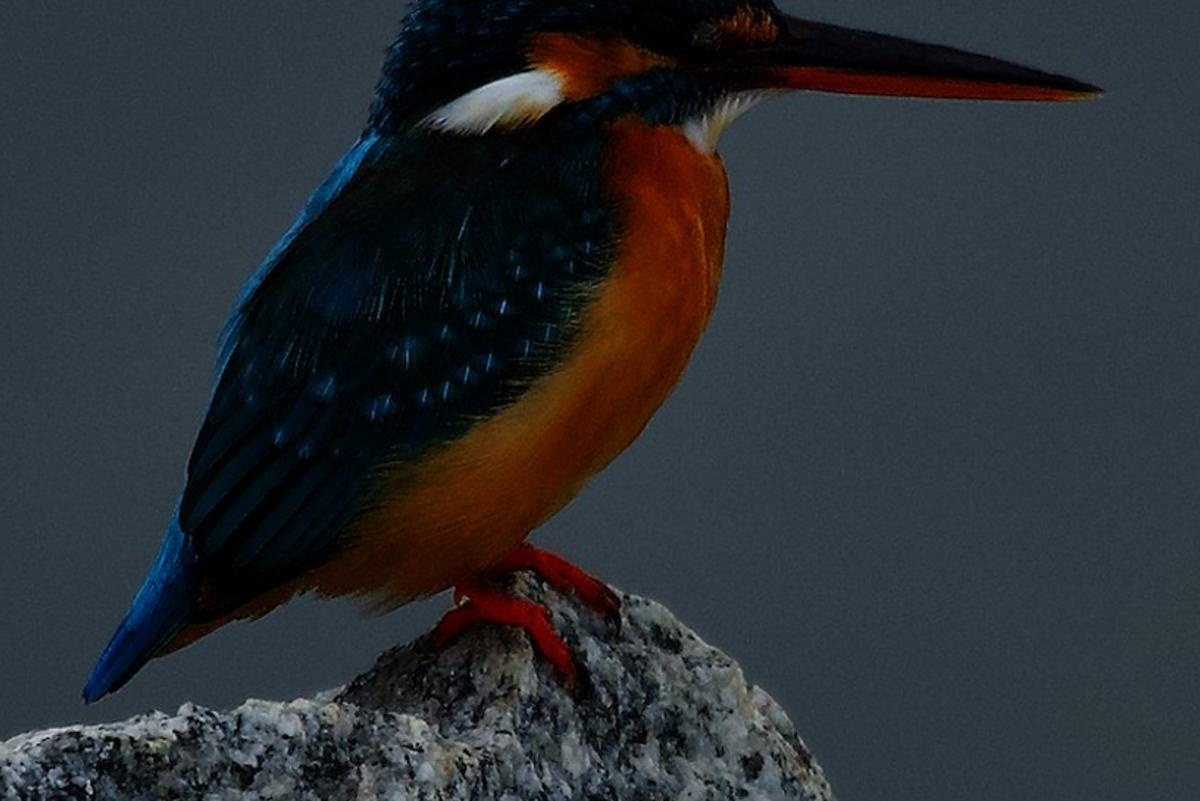kingfisher: (73, 4, 1135, 731)
